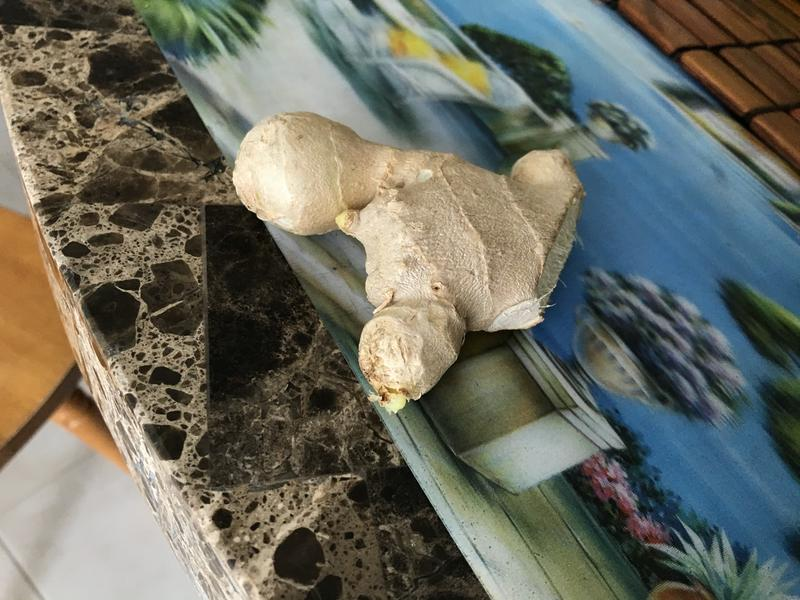ginger: (230, 105, 591, 420)
